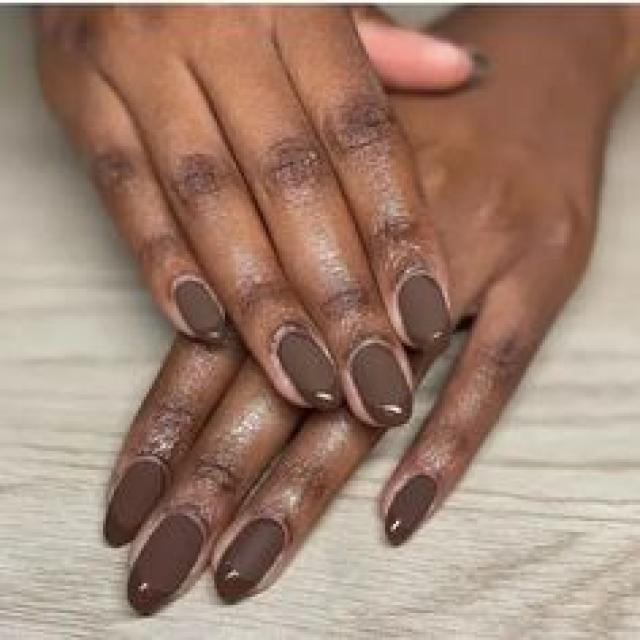Fingernail: (128, 516, 202, 616), (215, 518, 285, 604), (104, 461, 165, 547), (278, 332, 342, 413), (351, 343, 413, 426), (400, 275, 450, 354), (386, 475, 436, 546), (175, 281, 228, 343)
